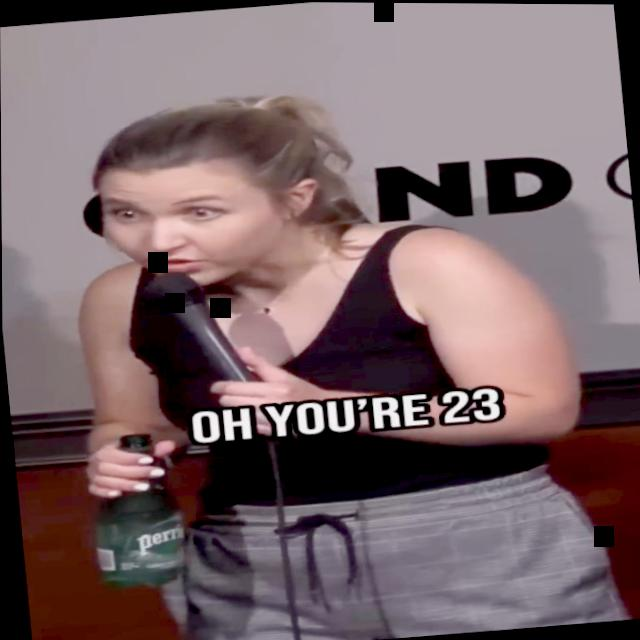NO-Mask: (90, 138, 322, 295)
